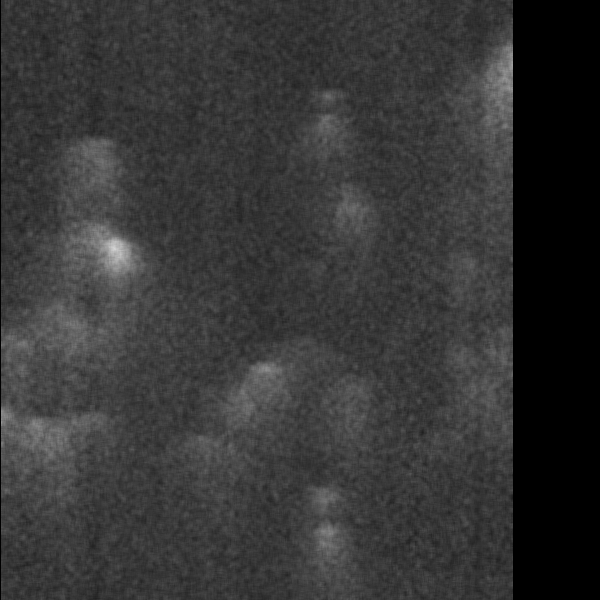spark: (79, 231, 147, 305), (241, 353, 288, 436), (77, 137, 120, 207), (331, 185, 370, 260), (305, 524, 343, 575), (308, 486, 338, 514)
